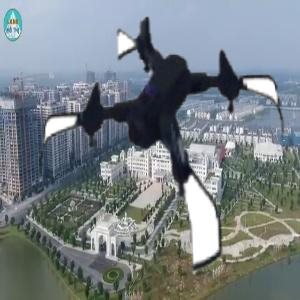drone: (32, 11, 298, 277)
